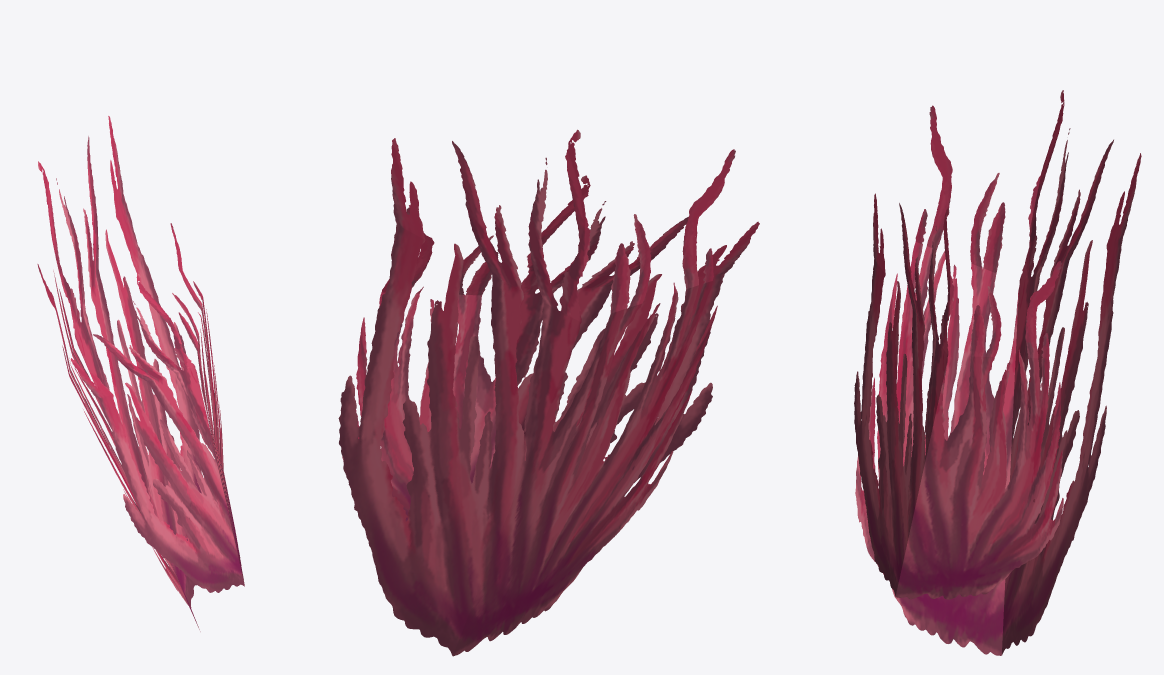
File: grass2.fbx
The picture shows the model from 3 angles, left to right: view 1: azimuth 30°, elevation 25°; view 2: azimuth 150°, elevation 25°; view 3: azimuth 270°, elevation 25°; orthographic projection. The views are drawn at different scales.
Visible parts, largest first — view 1: Plane.002; view 2: Plane.002; view 3: Plane.002.
Part boxes in pixels (<box>): Plane.002: <box>37,116,244,631</box>; Plane.002: <box>338,129,759,656</box>; Plane.002: <box>854,90,1141,655</box>.
Size of the model in its own units: 307 by 512 by 239.
